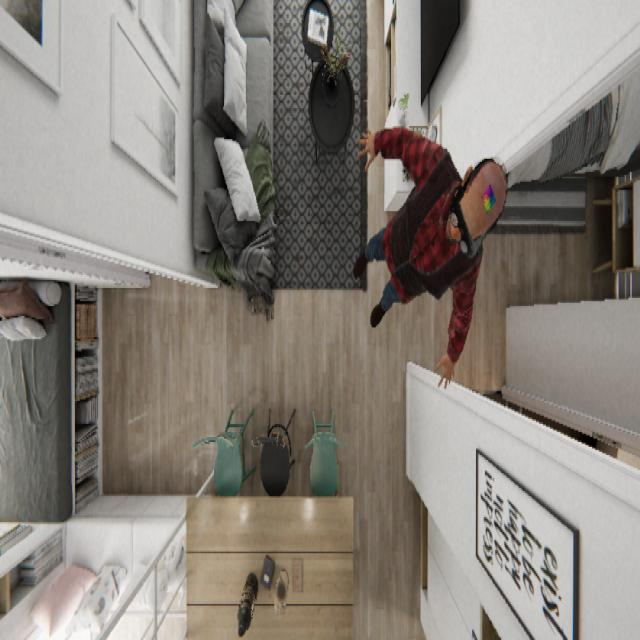Colored-Marker: (479, 180, 496, 214)
Human: (352, 123, 508, 390)
